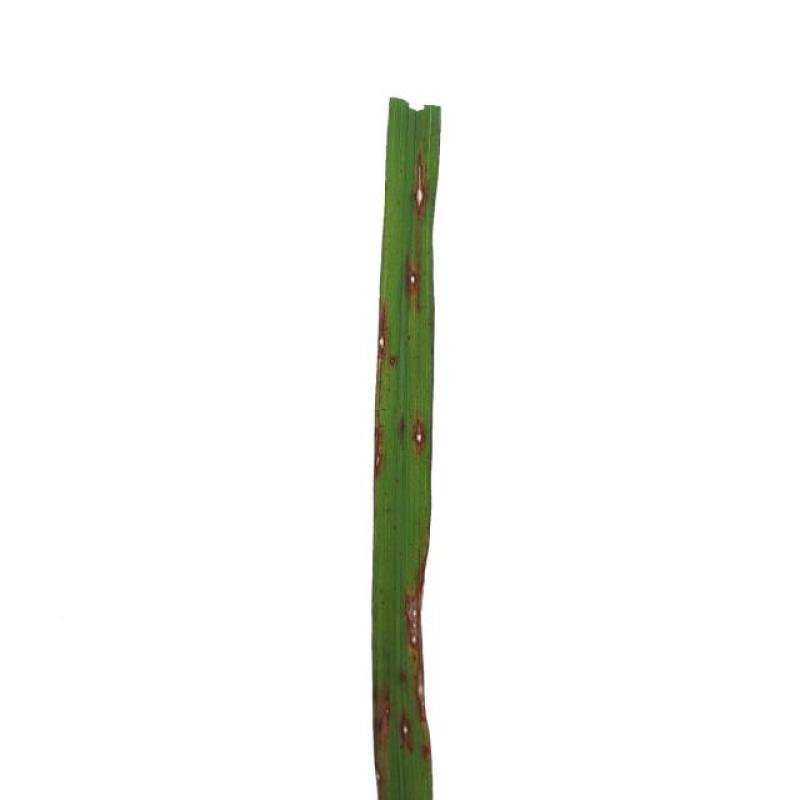Leaf_Blast: (404, 590, 428, 731), (409, 151, 430, 225), (375, 684, 393, 748), (374, 415, 388, 497), (404, 258, 422, 308), (399, 710, 415, 759), (414, 418, 426, 466)
